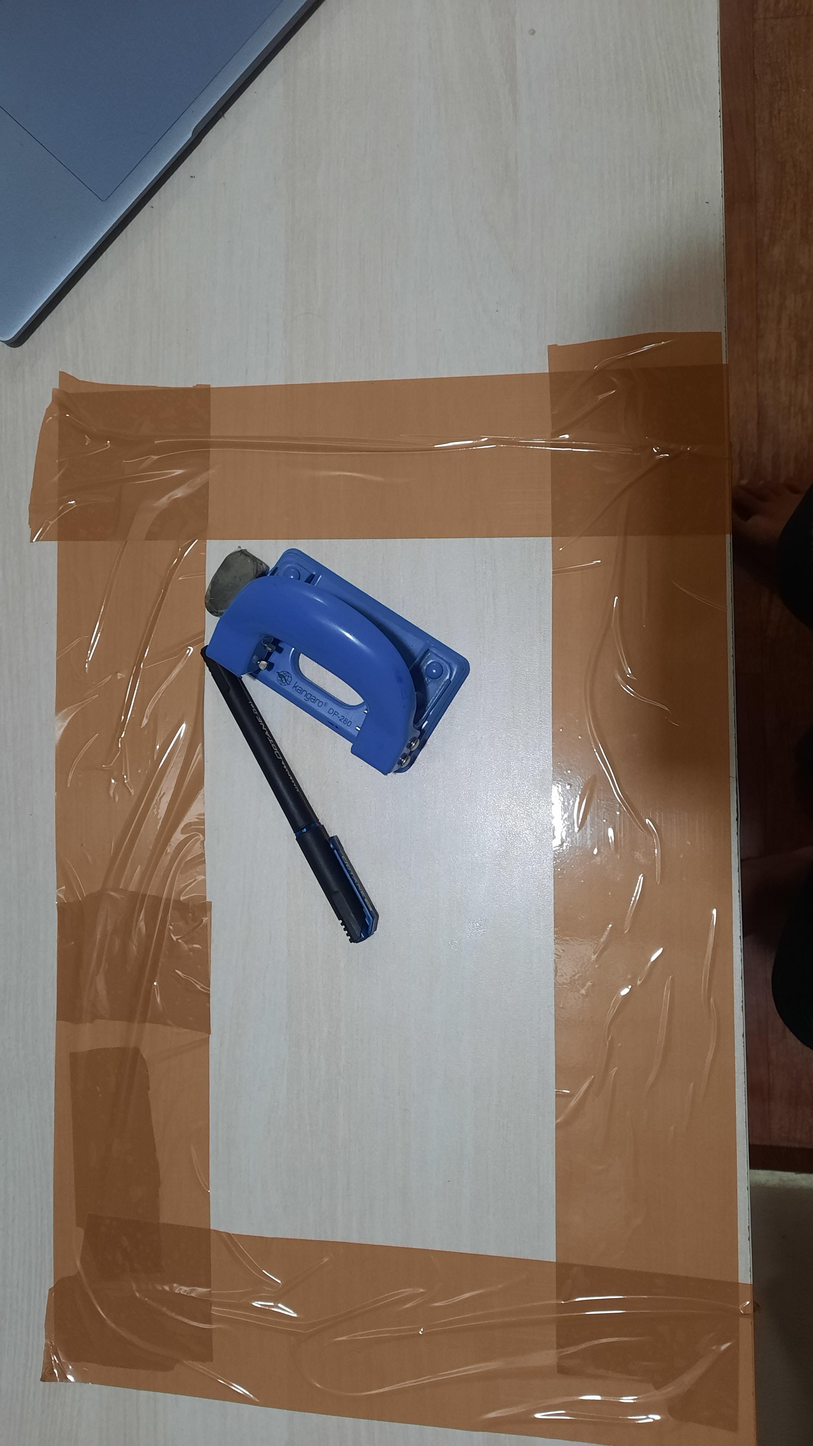Eraser: (205, 547, 270, 617)
Pen: (201, 645, 379, 944)
Punch: (205, 549, 470, 775)
